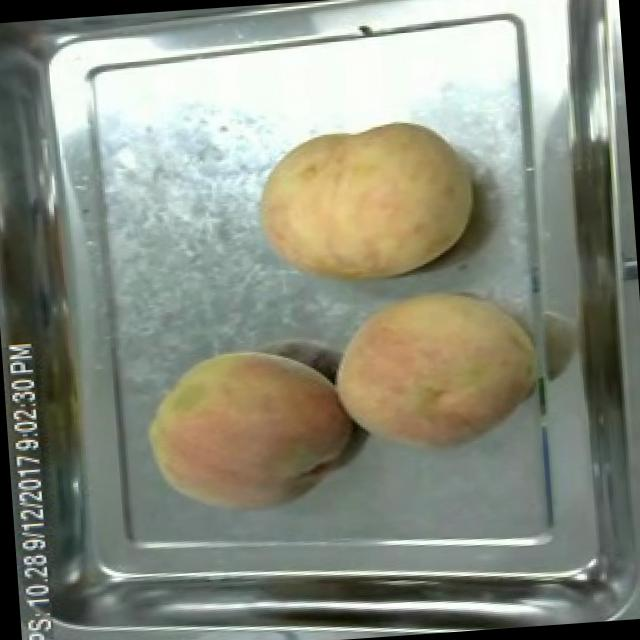Fruit: (247, 109, 484, 296), (133, 334, 363, 525), (320, 274, 546, 464)
